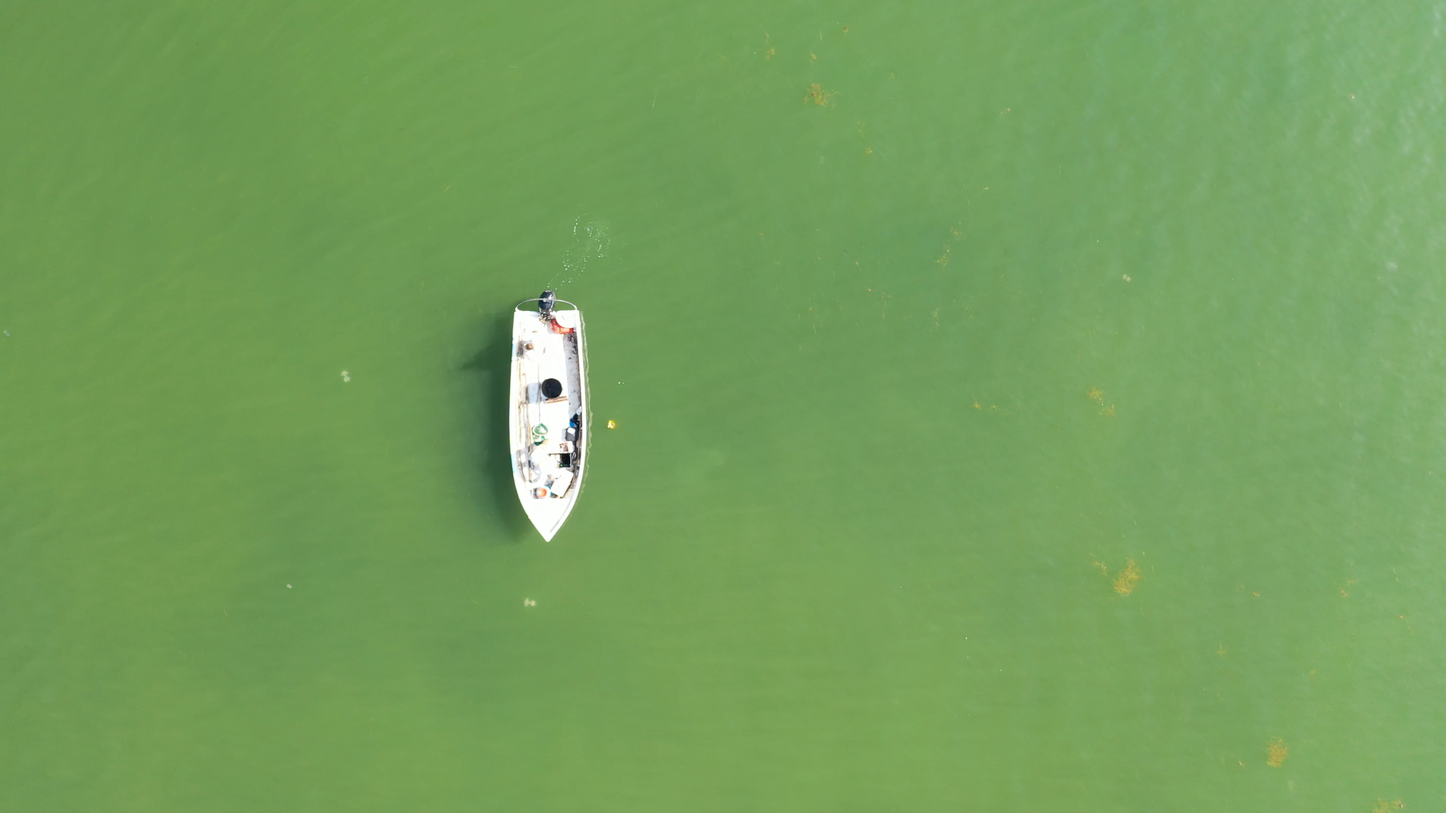meduse: (524, 598, 537, 608), (342, 371, 352, 383), (1123, 273, 1132, 283), (4, 330, 10, 336), (287, 583, 292, 590)
